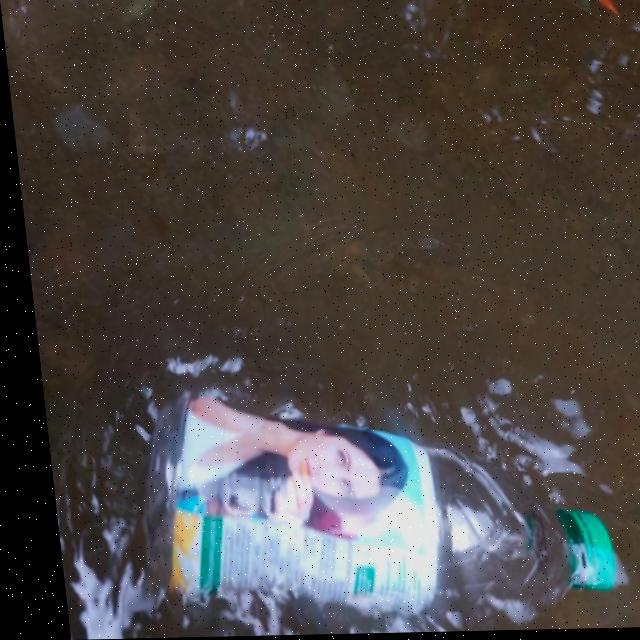leaf: (572, 0, 621, 26)
waterbottle: (115, 390, 626, 639)
